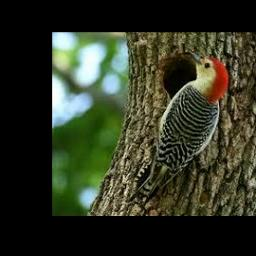Woodpecker: (125, 50, 229, 211)
